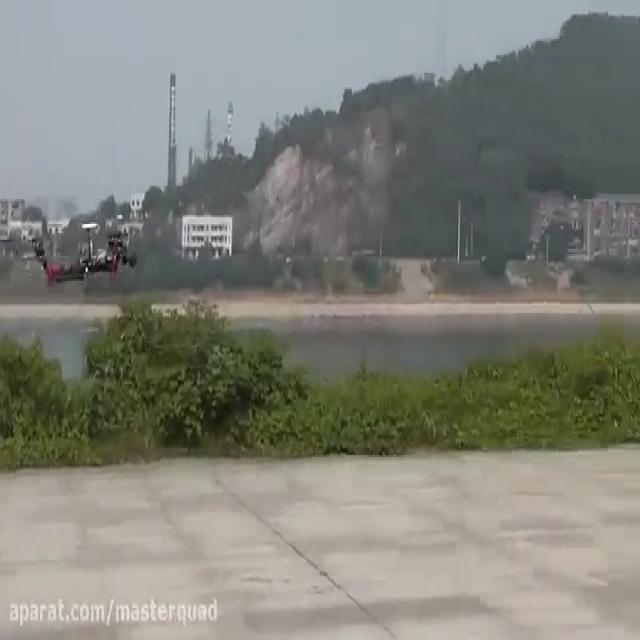drone: (23, 215, 143, 293)
